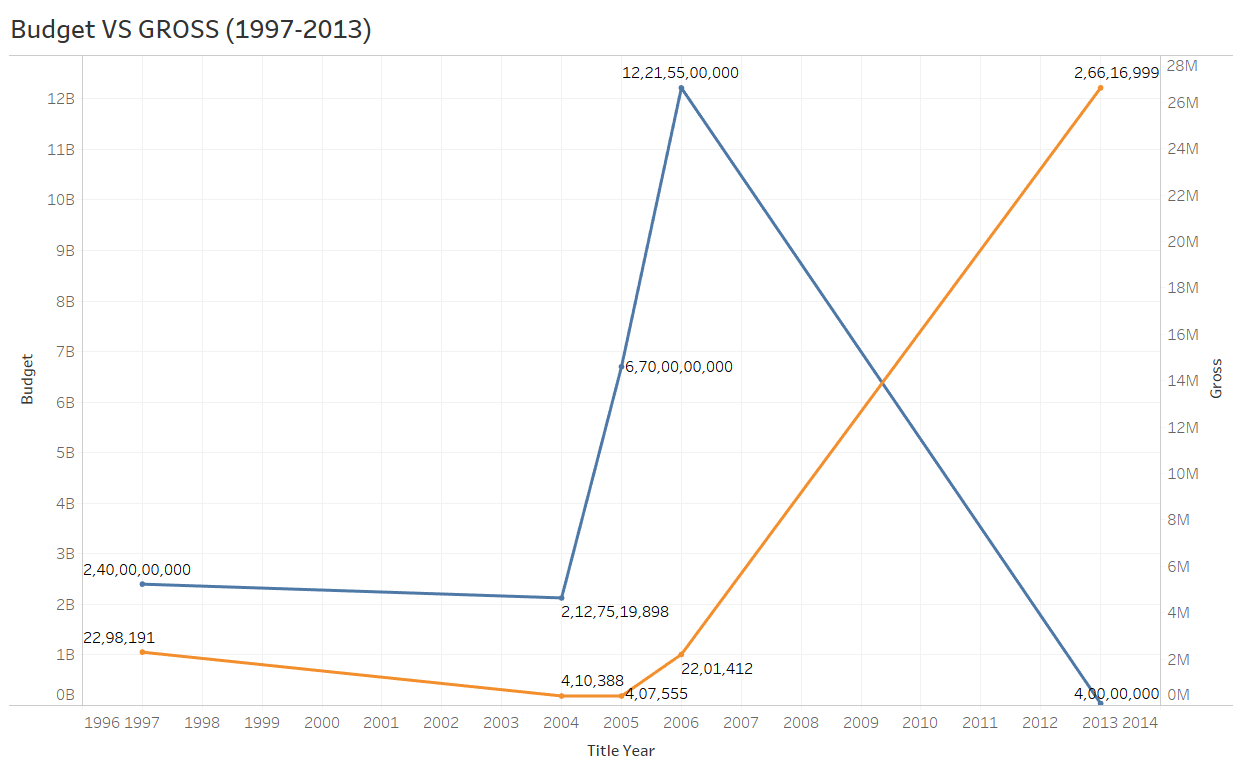

Layout of this report page (visuals, bound fields, positions):
{"tool":"tableau","page":{"name":"Dashboard 1","canvas":[1000,800],"ordinal":0},"visuals":[{"type":"worksheet","title":"Sheet 3","mark":"Automatic","rows":["budget","gross"],"cols":["title_year"],"box":[0,0,840,800]},{"type":"legend","title":"Sheet 3","param":"[federated.1e160na0utb0gz1e4g3et1r87qo7].[:Measure Names]","box":[840,0,160,76]}]}

Visuals, with their boxes on the page's 1000x800 design canvas (x1, y1, x2, y2). These are canvas units, not pixel positions in the 1236x767 screenshot, which may show the page scaled, cropped or inside an application window:
"Sheet 3" worksheet: <bbox>0, 0, 840, 800</bbox>
"Sheet 3" legend: <bbox>840, 0, 1000, 76</bbox>
